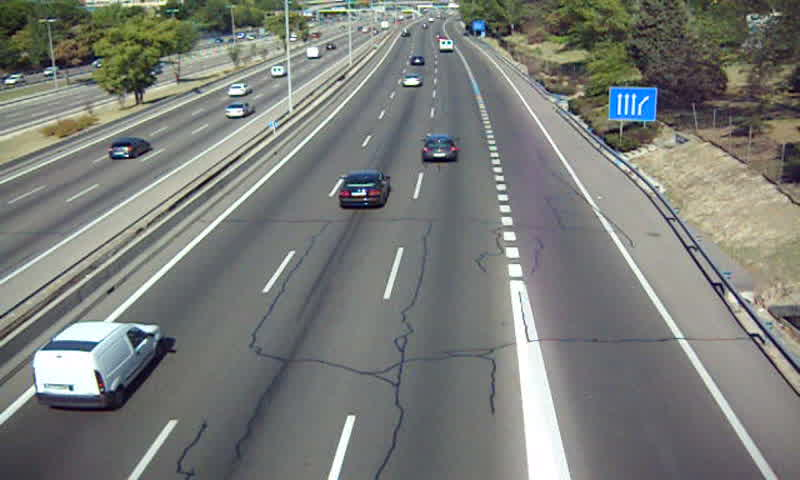car: (340, 171, 389, 208), (421, 136, 459, 163), (401, 73, 422, 88), (408, 55, 425, 69)
van: (33, 321, 162, 411)
